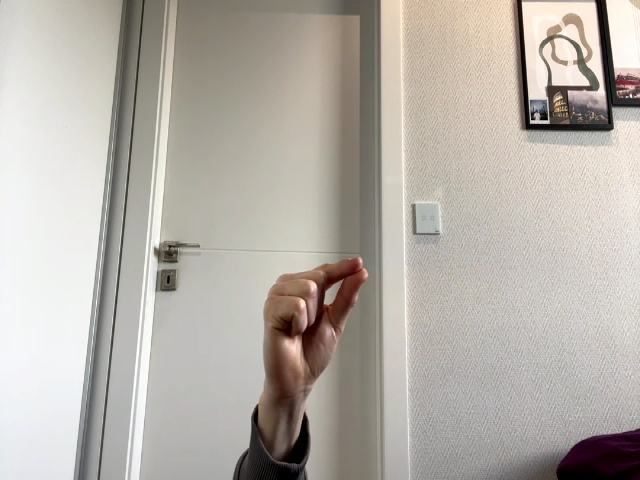P: (263, 257, 368, 392)
